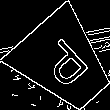P_SE: (34, 33, 95, 94)
